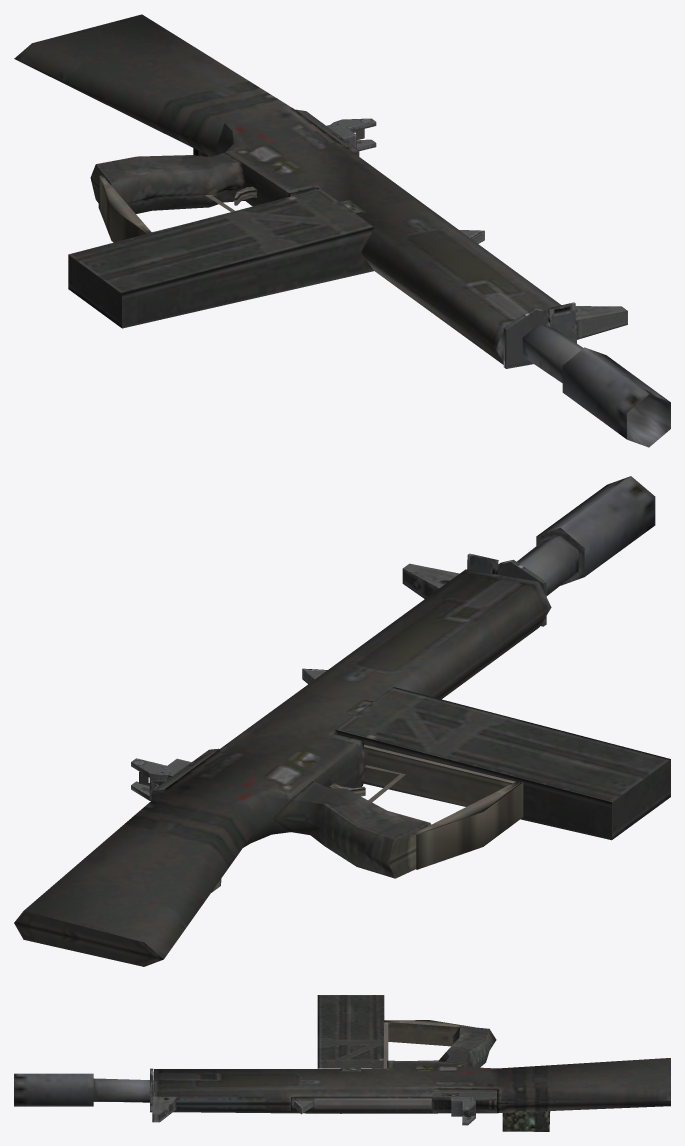
Rendered from Pickup_WeaponSdq03.glb.
3 renders of one model, top to bottom at view 1: azimuth 30°, elevation 25°; view 2: azimuth 150°, elevation 25°; view 3: azimuth 270°, elevation 25°, orthographic. The views are drawn at different scales.
Parts seen in each view (by area): view 1: pk_weapon_sdq03; view 2: pk_weapon_sdq03; view 3: pk_weapon_sdq03.
Boxes of the visible parts, x1=… form: pk_weapon_sdq03: x1=14, y1=14, x2=670, y2=447; pk_weapon_sdq03: x1=14, y1=476, x2=670, y2=966; pk_weapon_sdq03: x1=14, y1=995, x2=670, y2=1131.
Bounding box in the file's own units: 1.63 × 0.3503 × 4.03.
1 material, 1 textured.
